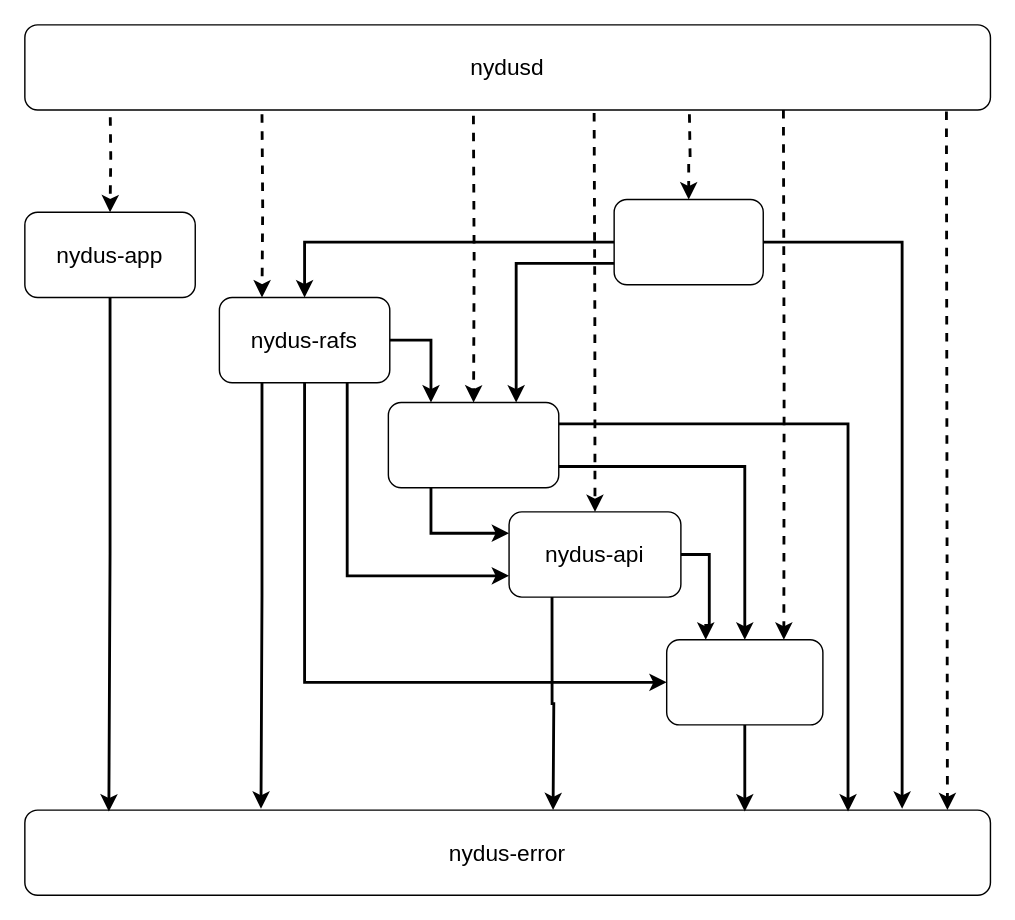
Image size: 1015x920. Some labels were removed from this diagram. The box of each missing label's shape, as (x1, y1, x2, y2) in pixels:
nydus-blobfs: (613, 198, 763, 285)
nydus-storage: (387, 401, 559, 488)
nydus-utils: (665, 638, 823, 725)
